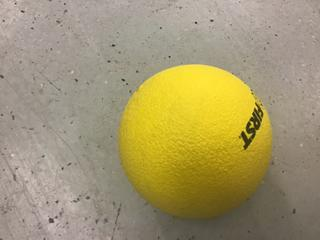power_cell: (114, 57, 277, 222)
